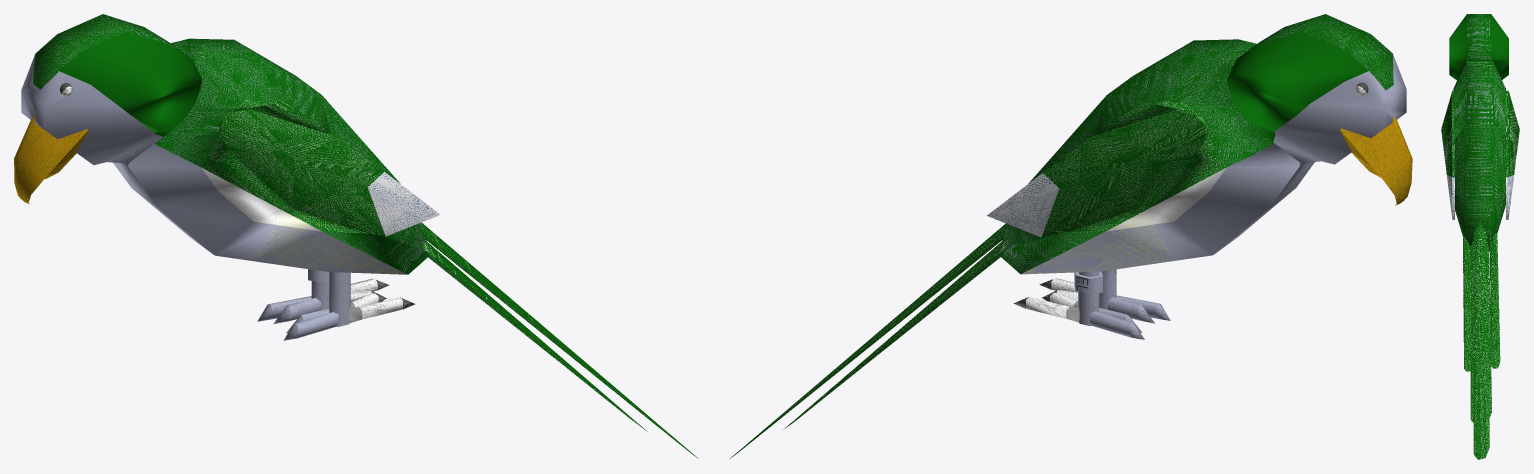
File: Parrot01.fbx
The picture shows the model from 3 angles, left to right: view 1: azimuth 30°, elevation 25°; view 2: azimuth 150°, elevation 25°; view 3: azimuth 270°, elevation 25°; orthographic projection. The views are drawn at different scales.
Visible parts, largest first — view 1: ducky1; view 2: ducky1; view 3: ducky1.
Part boxes in pixels (left/top/right/bottom): ducky1: left=14, top=14, right=698, bottom=458; ducky1: left=730, top=14, right=1412, bottom=458; ducky1: left=1441, top=14, right=1519, bottom=459.
Bounding box in the file's own units: 4.11 × 3.34 × 0.8085.
